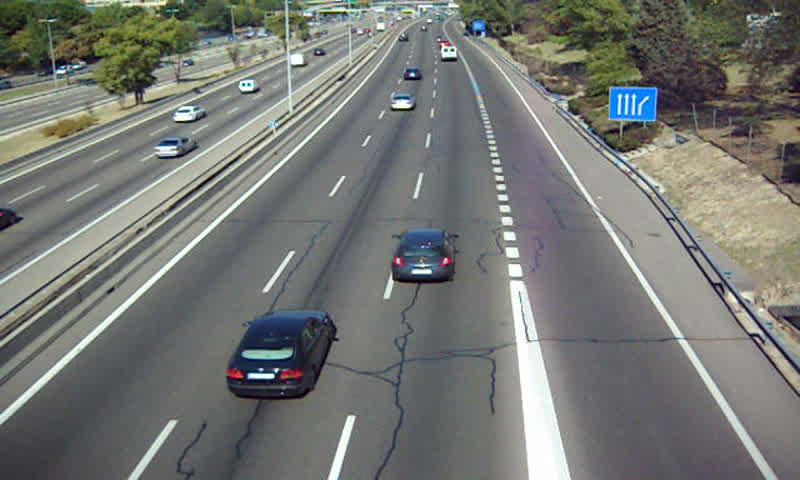car: (228, 312, 333, 399), (392, 228, 455, 282), (388, 92, 416, 112), (402, 67, 422, 84)
van: (441, 45, 458, 62)
